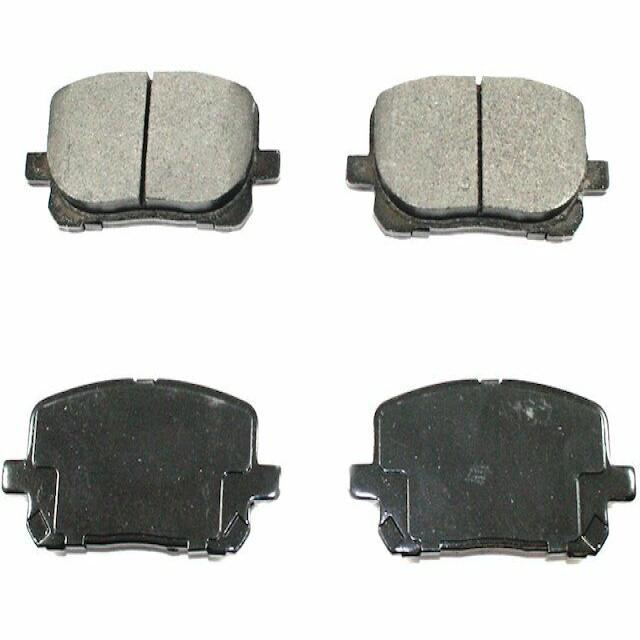brake_pad: (347, 361, 639, 584), (0, 365, 294, 564), (13, 36, 285, 248), (339, 59, 614, 258)
